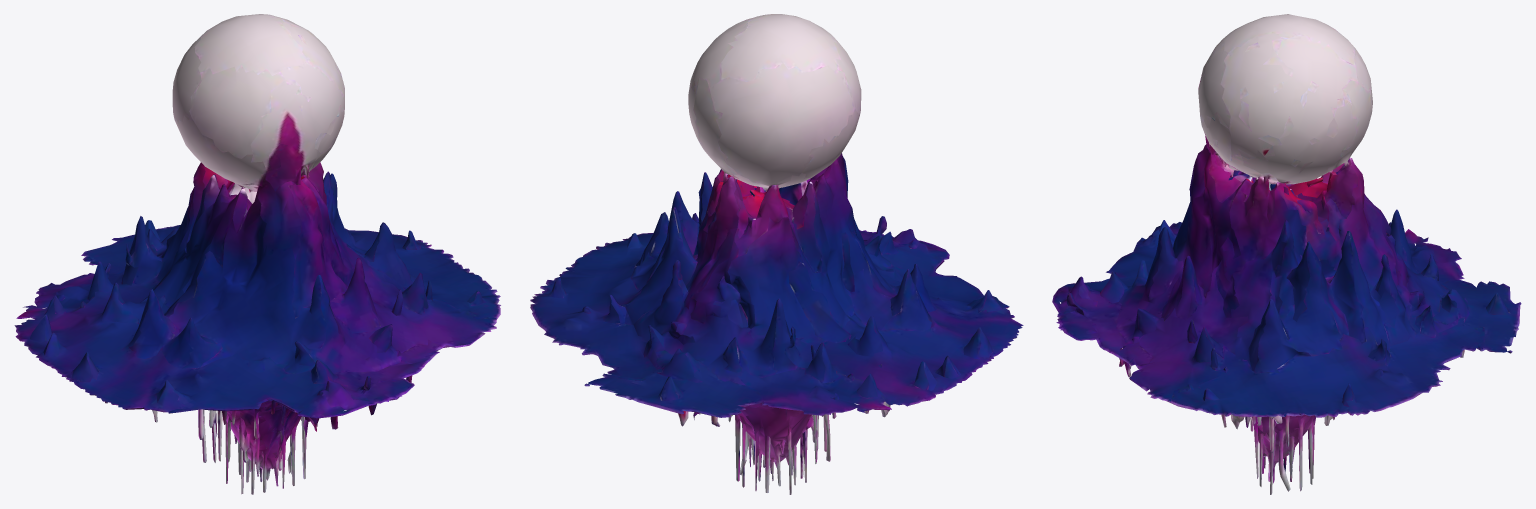
Rendered from outer-shoal-south-generated-2026-05-17T20-59-12-373Z.low.glb.
3 renders of one model, left to right at view 1: azimuth 30°, elevation 25°; view 2: azimuth 150°, elevation 25°; view 3: azimuth 270°, elevation 25°, orthographic.
Visible parts, largest first — view 1: temp_mesh.ply; view 2: temp_mesh.ply; view 3: temp_mesh.ply.
Boxes of the visible parts, <box> form: temp_mesh.ply: <box>14,14,500,494</box>; temp_mesh.ply: <box>530,14,1023,494</box>; temp_mesh.ply: <box>1052,14,1521,494</box>.
Bounding box in the file's own units: 1.86 × 1.97 × 1.84.
Materials: 1 (1 with a texture image).
